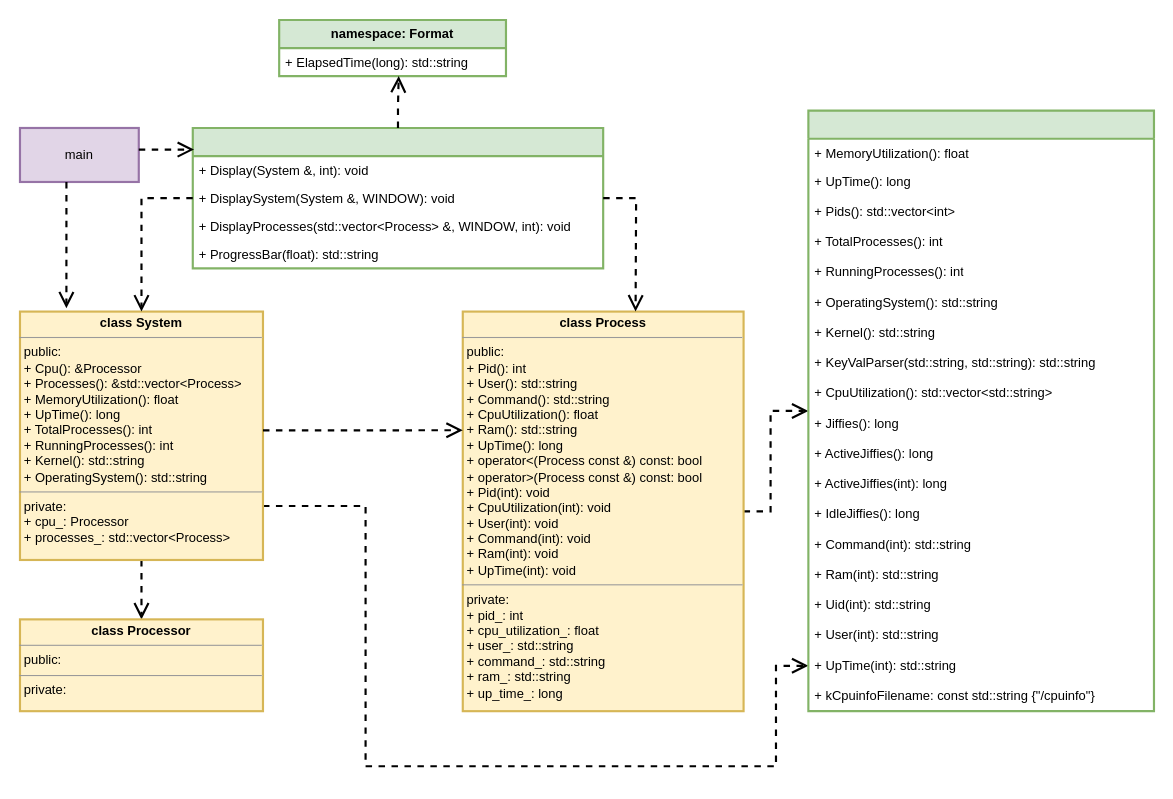
Image size: 1173x799. Some labels were removed from this diagram. Each missing label, with the box of its shape:
namespace LinuxParser: (807, 109, 1155, 712)
namespace: NCursesDisplay: (191, 126, 604, 269)
